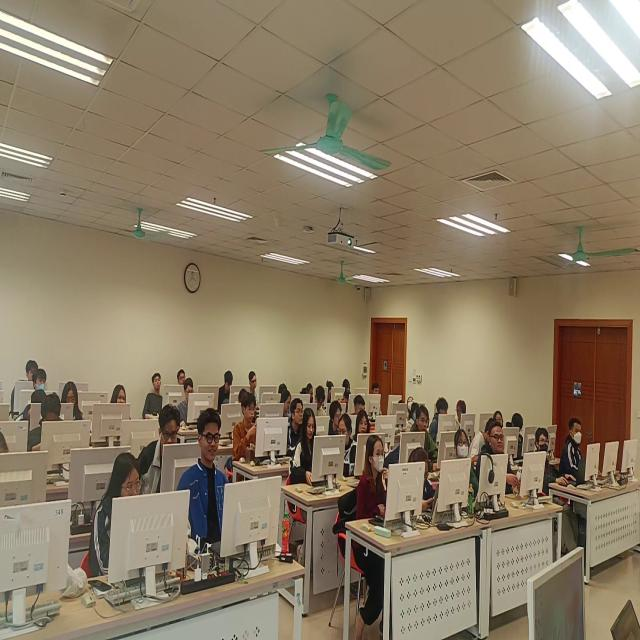raise_head: (476, 419, 522, 494), (453, 427, 480, 508), (535, 428, 570, 487), (10, 357, 42, 418), (559, 414, 589, 476), (413, 406, 439, 461), (141, 367, 163, 421), (288, 395, 307, 457), (354, 408, 372, 441), (110, 381, 130, 407), (33, 366, 50, 394), (408, 402, 423, 431), (248, 371, 261, 402), (495, 407, 507, 430), (176, 367, 189, 386), (408, 395, 415, 414), (119, 446, 125, 448)
using_computer: (176, 407, 229, 544), (89, 449, 144, 581), (139, 405, 186, 497), (357, 433, 391, 521), (28, 390, 63, 454), (470, 416, 499, 462), (15, 386, 51, 422), (507, 412, 528, 461), (178, 380, 197, 425), (64, 380, 84, 422), (218, 369, 234, 416), (329, 400, 346, 437), (315, 384, 330, 417), (372, 379, 384, 416), (282, 389, 294, 417), (1, 432, 13, 460), (354, 394, 368, 417), (301, 381, 314, 403), (238, 383, 250, 403), (327, 378, 336, 402), (343, 376, 351, 402), (278, 382, 289, 396)
using_phone: (407, 445, 440, 520), (231, 392, 262, 464)
